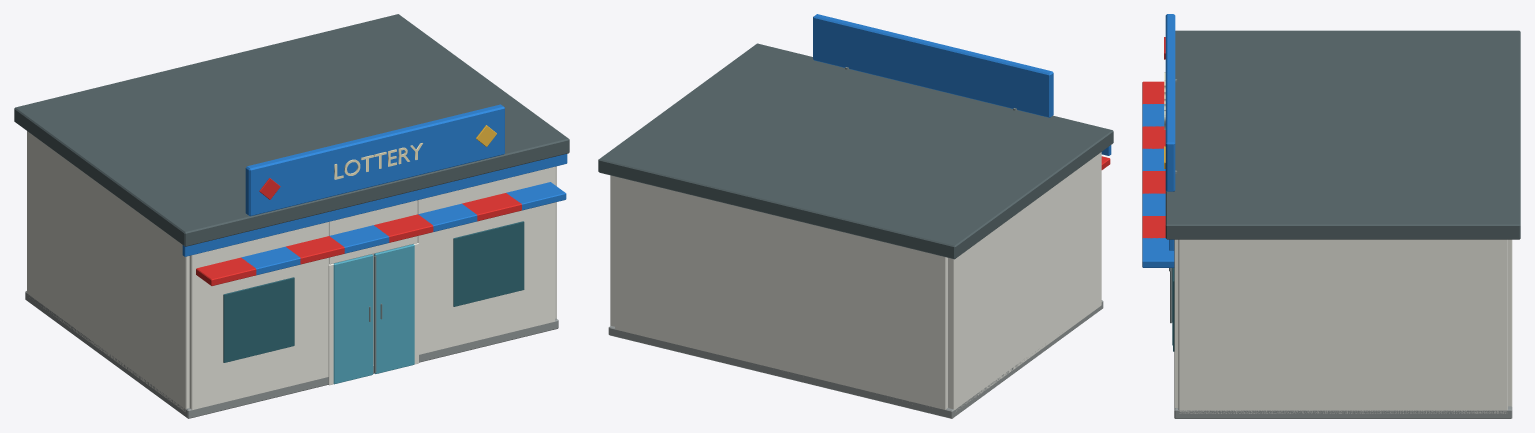
Rendered from Lottery.glb.
The picture shows the model from 3 angles, left to right: view 1: azimuth 30°, elevation 25°; view 2: azimuth 150°, elevation 25°; view 3: azimuth 270°, elevation 25°; orthographic projection. The views are drawn at different scales.
Visible parts, largest first — view 1: FTF_Building_FarmTown_LotteryShop_8x6m_Mesh; view 2: FTF_Building_FarmTown_LotteryShop_8x6m_Mesh; view 3: FTF_Building_FarmTown_LotteryShop_8x6m_Mesh.
Part boxes in pixels (bbox=[...]): FTF_Building_FarmTown_LotteryShop_8x6m_Mesh: bbox=[14, 14, 569, 418]; FTF_Building_FarmTown_LotteryShop_8x6m_Mesh: bbox=[598, 14, 1113, 418]; FTF_Building_FarmTown_LotteryShop_8x6m_Mesh: bbox=[1142, 14, 1520, 418].
Size of the model in its own units: 8.72 by 5.17 by 7.16.
